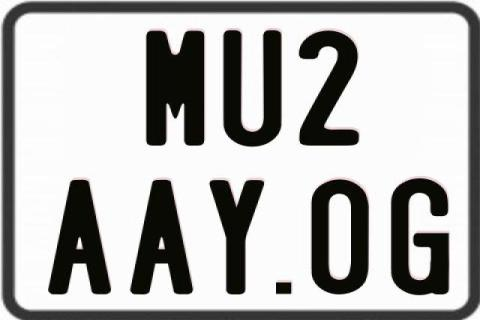0: (299, 28, 361, 148), (310, 179, 370, 297)
A: (130, 179, 198, 297), (47, 178, 113, 294)
G: (388, 177, 447, 296)
M: (143, 30, 205, 148)
U: (222, 28, 283, 148)
Y: (210, 180, 270, 299)
